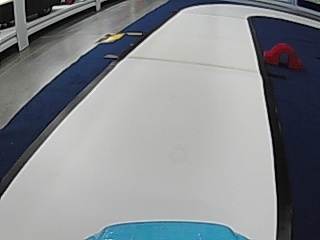bridge: (264, 42, 302, 68)
